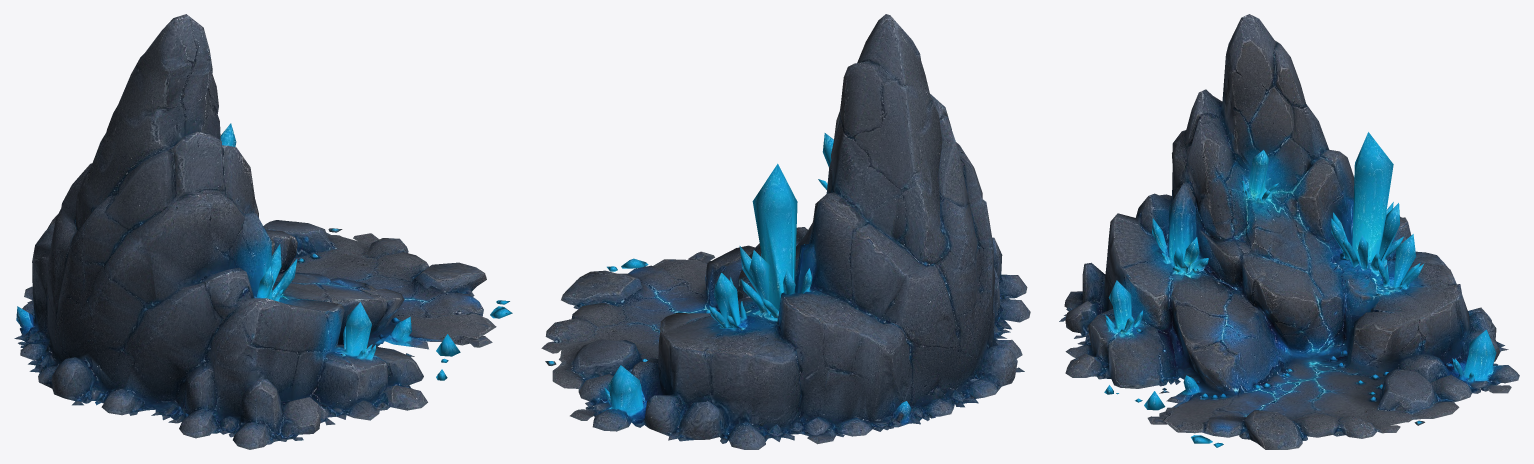
3 views of the same model, side by side, from view 1: azimuth 30°, elevation 25°; view 2: azimuth 150°, elevation 25°; view 3: azimuth 270°, elevation 25° (orthographic). The views are drawn at different scales.
Parts seen in each view (by area): view 1: tripo_node_149aacbc-7937-46f9-b235-0e4c4e0ff946; view 2: tripo_node_149aacbc-7937-46f9-b235-0e4c4e0ff946; view 3: tripo_node_149aacbc-7937-46f9-b235-0e4c4e0ff946.
Part boxes in pixels (x1,y1,x2,y2): tripo_node_149aacbc-7937-46f9-b235-0e4c4e0ff946: (14,14,512,449); tripo_node_149aacbc-7937-46f9-b235-0e4c4e0ff946: (541,14,1030,449); tripo_node_149aacbc-7937-46f9-b235-0e4c4e0ff946: (1059,14,1519,449).
Bounding box in the file's own units: 0.9629 × 0.7246 × 0.998.
1 material, 1 textured.
